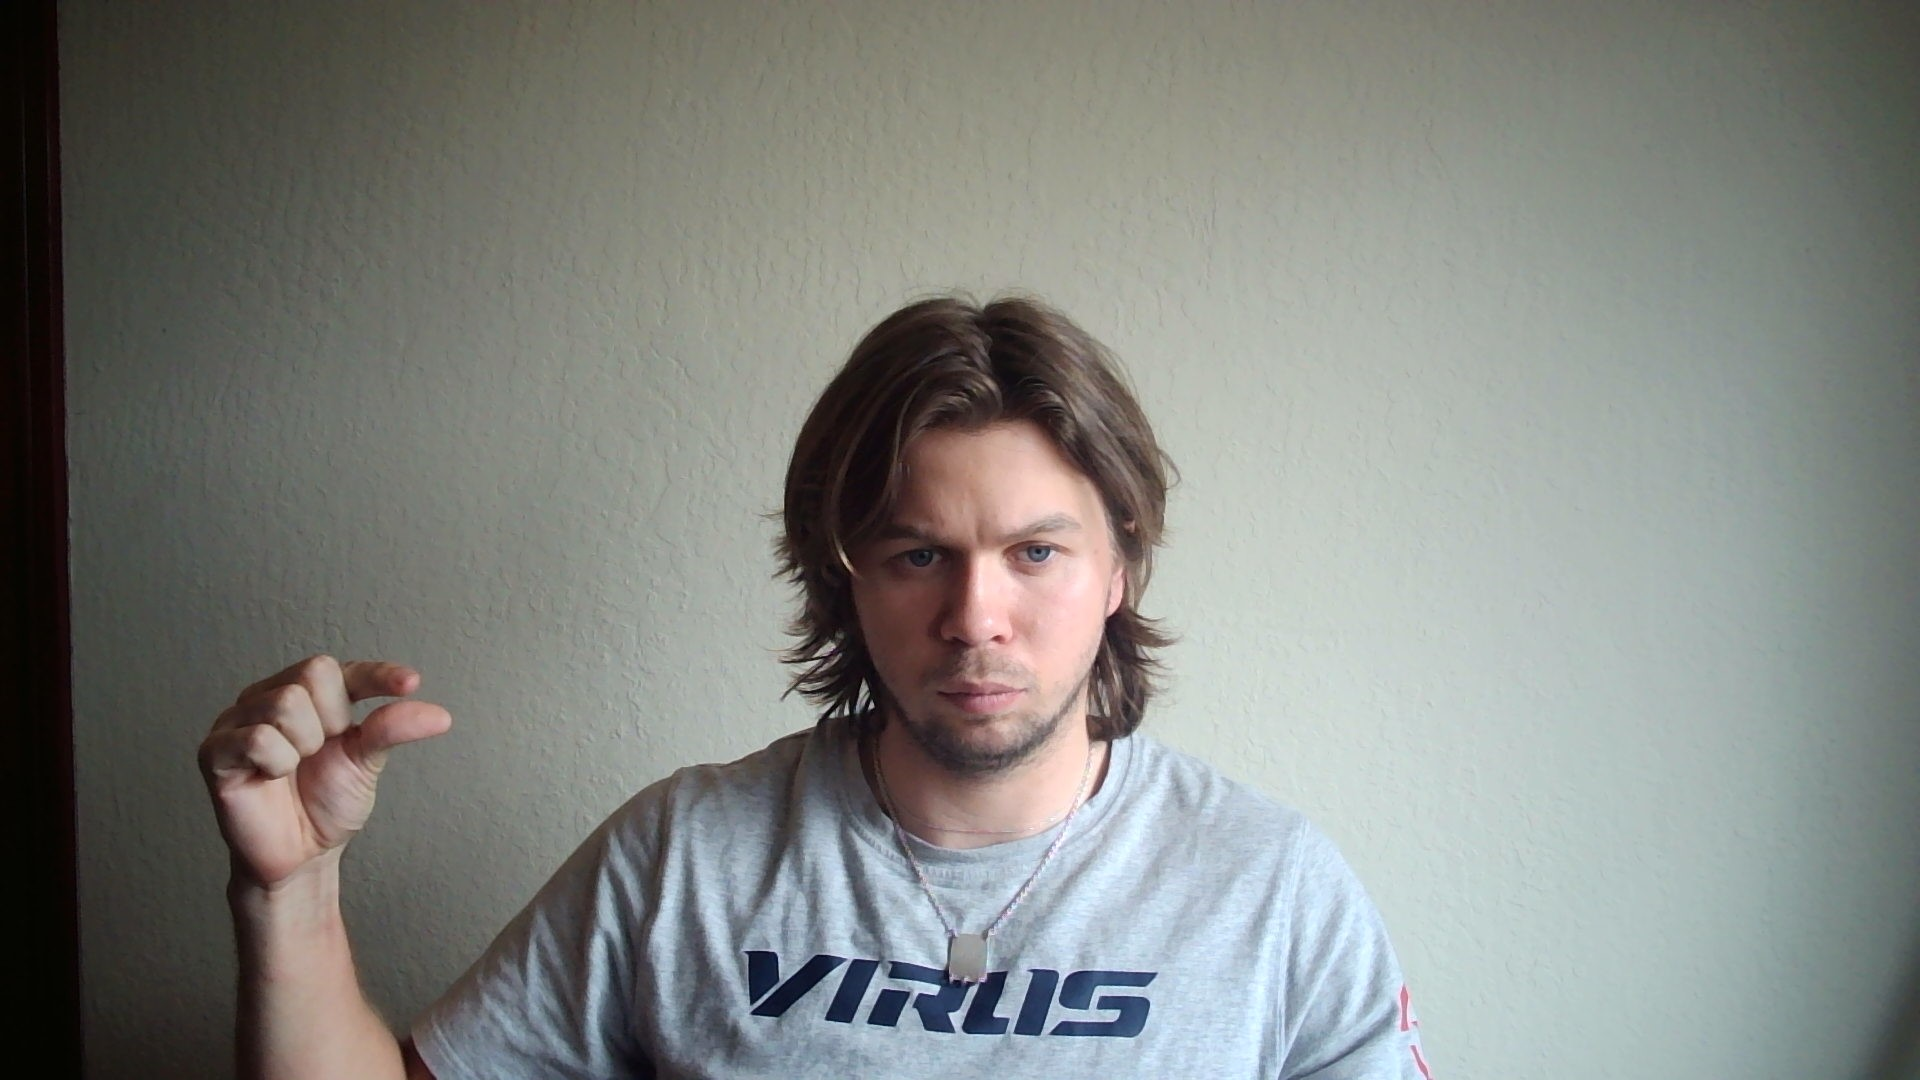small: (196, 653, 451, 878)
